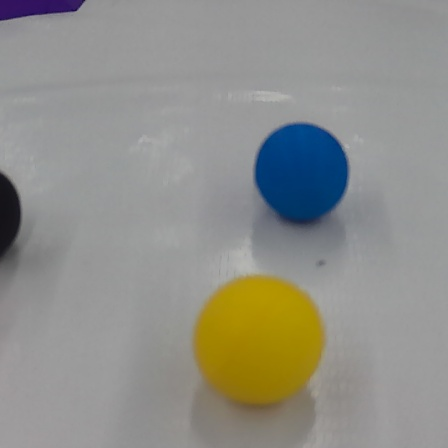blue: (254, 121, 349, 223)
yellow: (190, 274, 325, 408)
